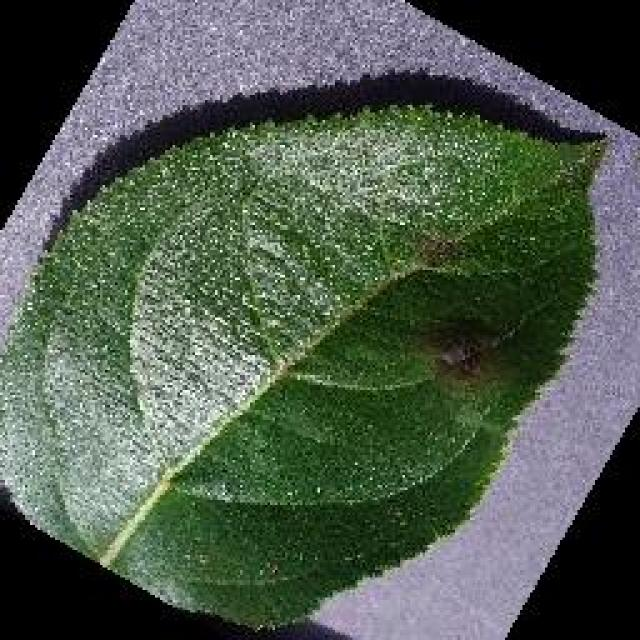apple scab disease: (0, 92, 612, 635)
